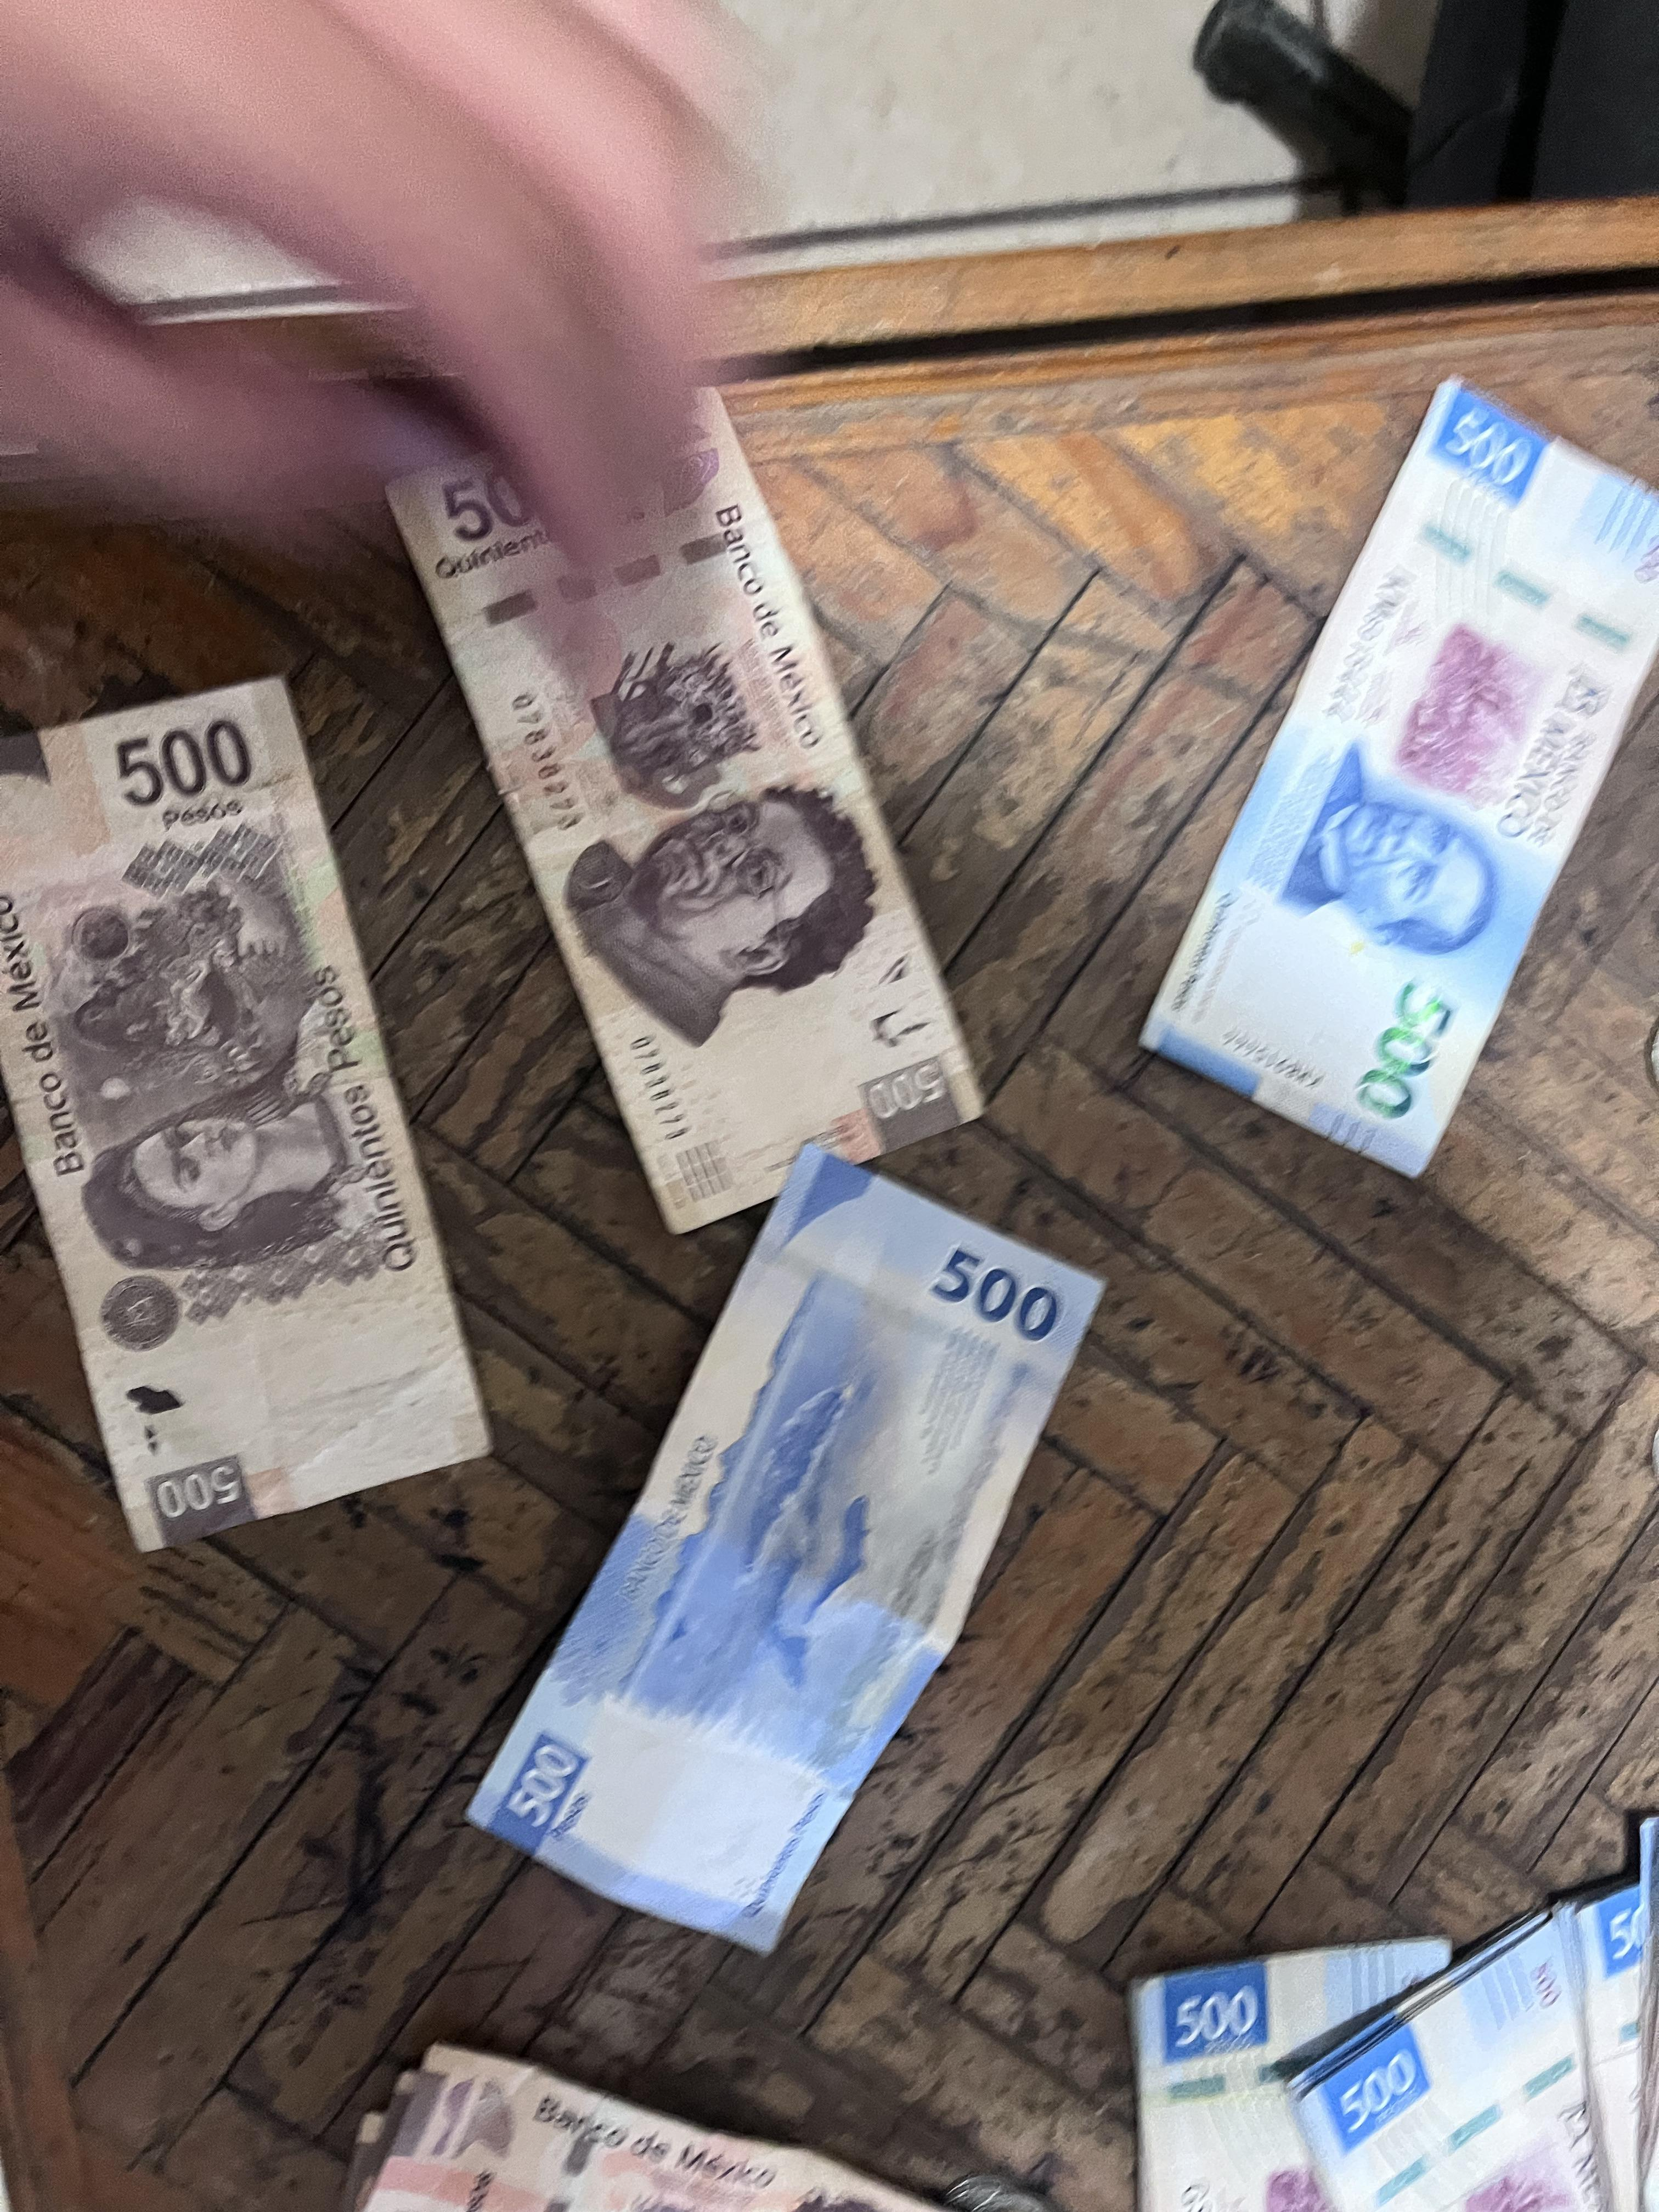500: (368, 369, 1014, 1231), (0, 685, 505, 1568), (340, 2033, 985, 2212)
500 nuevo: (451, 1141, 1115, 1977), (1117, 364, 1659, 1195), (1324, 1907, 1659, 2212), (1127, 1932, 1476, 2212)
